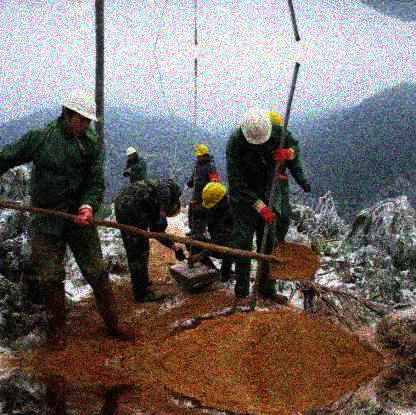helmet: (60, 90, 99, 137), (239, 104, 272, 146), (201, 182, 230, 211), (195, 144, 210, 162), (126, 147, 137, 162)
